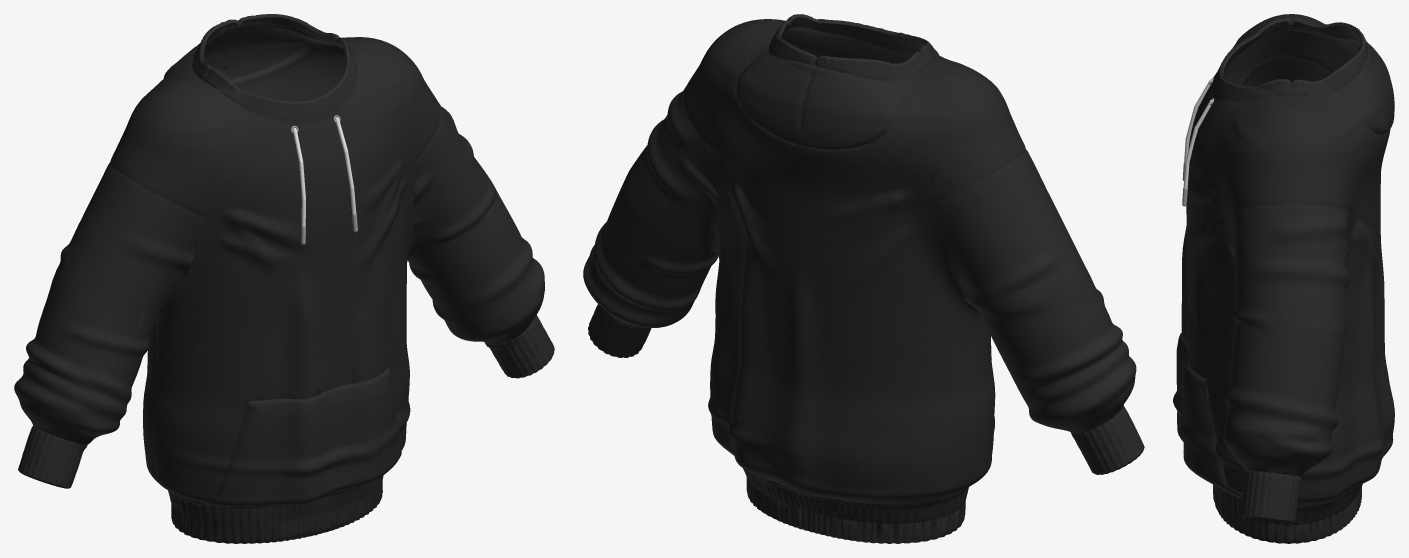
The model's file is 02_sudadera_capucha_oversize_pbr.glb.
The picture shows the model from 3 angles, left to right: view 1: azimuth 30°, elevation 25°; view 2: azimuth 150°, elevation 25°; view 3: azimuth 270°, elevation 25°; orthographic projection. The views are drawn at different scales.
Visible parts, largest first — view 1: Camiseta PBR, Cordones; view 2: Camiseta PBR; view 3: Camiseta PBR, Cordones.
Boxes of the visible parts, x1,y1,x2,y2 form: Camiseta PBR: [14, 14, 554, 543]; Cordones: [292, 117, 356, 225]; Camiseta PBR: [583, 14, 1144, 543]; Camiseta PBR: [1173, 14, 1394, 543]; Cordones: [1183, 79, 1212, 188].
Bounding box in the file's own units: 0.9995 × 0.8397 × 0.3692.
3 materials, 1 textured.
